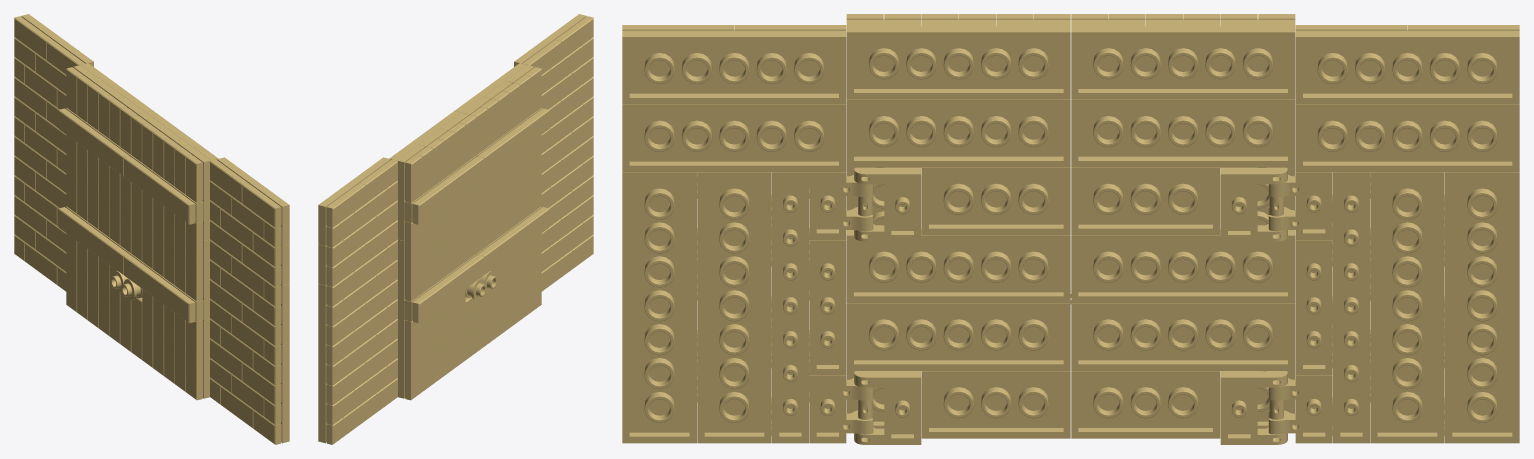
The model's file is smallDoor.fbx.
3 renders of one model, left to right at view 1: azimuth 30°, elevation 25°; view 2: azimuth 150°, elevation 25°; view 3: azimuth 270°, elevation 25°, orthographic. The views are drawn at different scales.
Parts seen in each view (by area): view 1: DoorRight, WallRight, DoorLeft, WallLeft; view 2: DoorLeft, WallLeft, DoorRight, WallRight; view 3: WallRight, WallLeft, DoorLeft, DoorRight.
Boxes of the visible parts, <box> form: DoorRight: <box>121,111,218,400</box>; WallRight: <box>210,157,289,444</box>; DoorLeft: <box>58,63,153,352</box>; WallLeft: <box>14,14,93,291</box>; DoorLeft: <box>389,111,486,400</box>; WallLeft: <box>318,157,397,444</box>; DoorRight: <box>454,63,549,352</box>; WallRight: <box>514,14,593,291</box>; WallRight: <box>622,25,873,443</box>; WallLeft: <box>1268,25,1519,443</box>; DoorLeft: <box>1071,14,1295,444</box>; DoorRight: <box>846,14,1070,444</box>.
Bounding box in the file's own units: 1778 × 9592 × 19192.
